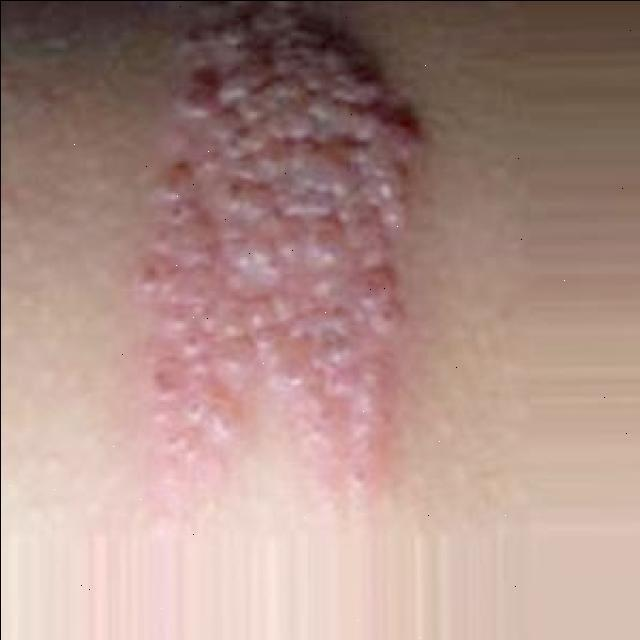Shingles: (154, 0, 423, 499)
